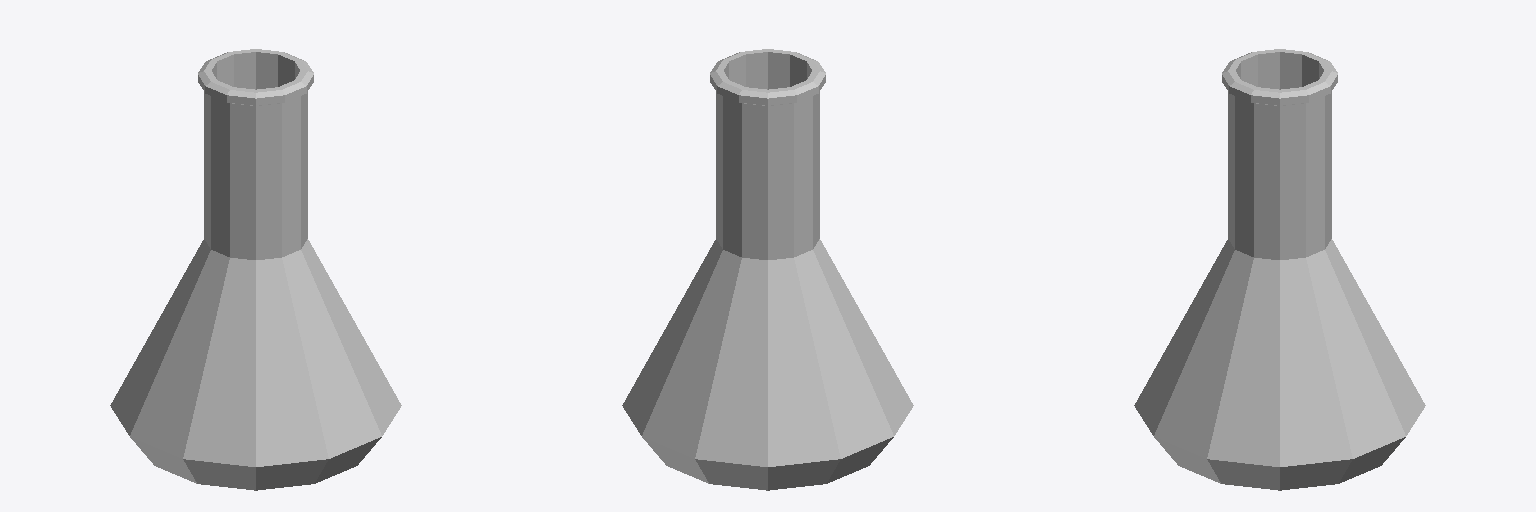
The model's file is ErlenmeyerFlask.obj.
The picture shows the model from 3 angles: view 1: azimuth 30°, elevation 25°; view 2: azimuth 150°, elevation 25°; view 3: azimuth 270°, elevation 25°; orthographic projection.
Visible parts, largest first — view 1: ErlenmyerFlask; view 2: ErlenmyerFlask; view 3: ErlenmyerFlask.
Part boxes in pixels (x1,y1,x2,y2): ErlenmyerFlask: (110, 49, 401, 490); ErlenmyerFlask: (622, 49, 913, 490); ErlenmyerFlask: (1134, 49, 1425, 490).
Size of the model in its own units: 0.8097 by 1.13 by 0.8097.